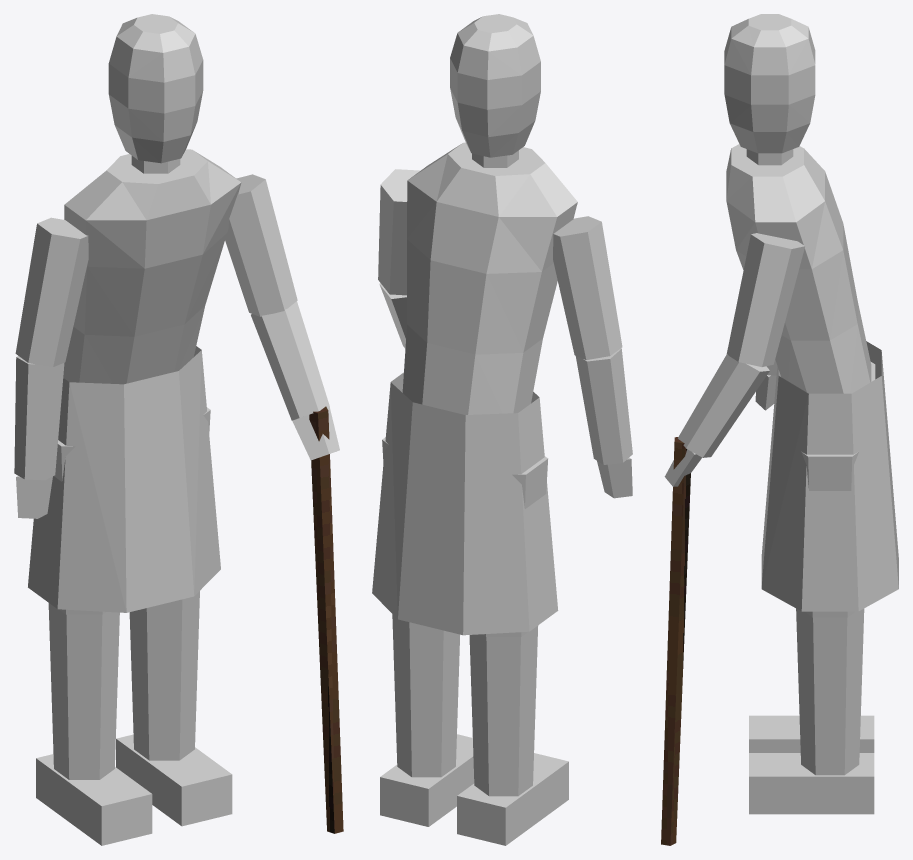
The model's file is anciano.obj.
3 views of the same model, side by side, from view 1: azimuth 30°, elevation 25°; view 2: azimuth 150°, elevation 25°; view 3: azimuth 270°, elevation 25° (orthographic). The views are drawn at different scales.
Parts seen in each view (by area): view 1: anciano; view 2: anciano; view 3: anciano.
Part boxes in pixels (box(x1,y1,x2,y2)): anciano: box(14, 14, 343, 845); anciano: box(372, 14, 632, 845); anciano: box(661, 14, 898, 845).
Bounding box in the file's own units: 0.619 × 1.72 × 0.4854.
Materials: 2 (1 with a texture image).
